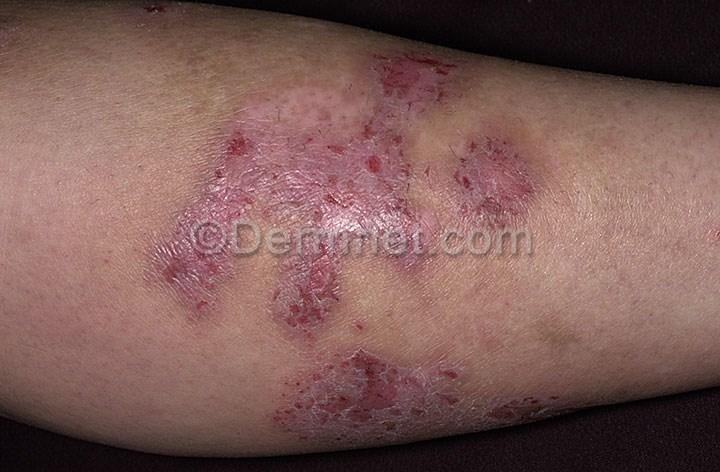Eczema: (115, 205, 242, 346), (441, 126, 562, 258), (290, 88, 430, 190), (194, 115, 301, 244), (260, 356, 390, 458), (343, 192, 426, 306), (354, 46, 481, 120), (259, 234, 338, 349), (338, 312, 449, 391), (235, 62, 323, 154), (390, 372, 482, 436), (481, 378, 561, 434), (121, 0, 198, 42)
